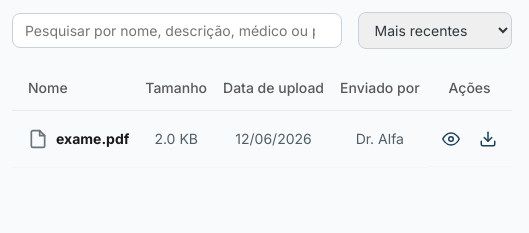
FilesTable — viewerRole=paciente › exibe mensagem de erro quando o service falha
Click the button named "baixar" at x=488, y=139, box x1=472 y1=123 x2=504 y2=154
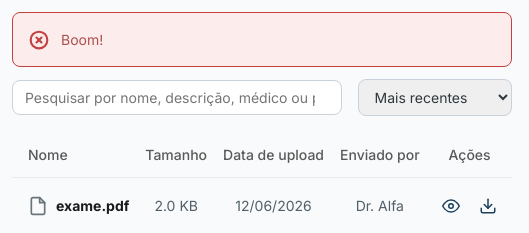
Result: the message shows "Boom" at x1=61 y1=31 x2=103 y2=48
